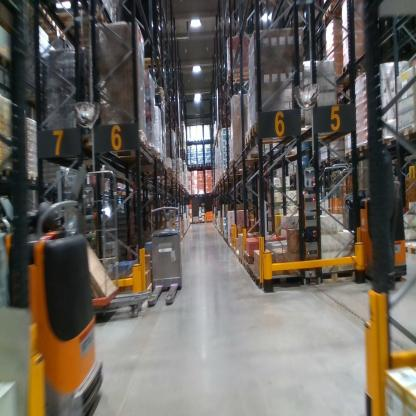pallet: (51, 3, 116, 26), (252, 265, 305, 290), (251, 113, 296, 142), (103, 130, 151, 156), (110, 142, 160, 161), (29, 22, 68, 43), (23, 11, 61, 31), (228, 66, 254, 89), (122, 155, 163, 169), (244, 127, 269, 149), (341, 60, 372, 76), (319, 154, 350, 170), (243, 248, 276, 262), (143, 56, 163, 77), (392, 123, 414, 141), (376, 132, 398, 149), (140, 161, 170, 172), (231, 153, 262, 163), (403, 237, 415, 260), (229, 159, 261, 167), (25, 171, 40, 187), (343, 146, 356, 162), (246, 264, 258, 281), (356, 143, 367, 158), (3, 164, 15, 177), (243, 259, 248, 273), (238, 256, 244, 267), (236, 251, 240, 263), (203, 163, 212, 168), (231, 244, 235, 255), (197, 163, 203, 170), (205, 190, 213, 195), (206, 219, 214, 224), (192, 192, 198, 198), (191, 164, 197, 170), (198, 219, 205, 224), (197, 193, 205, 196), (192, 221, 199, 224)
pallet_truck: (2, 180, 113, 414), (329, 150, 411, 291), (136, 188, 190, 317)
